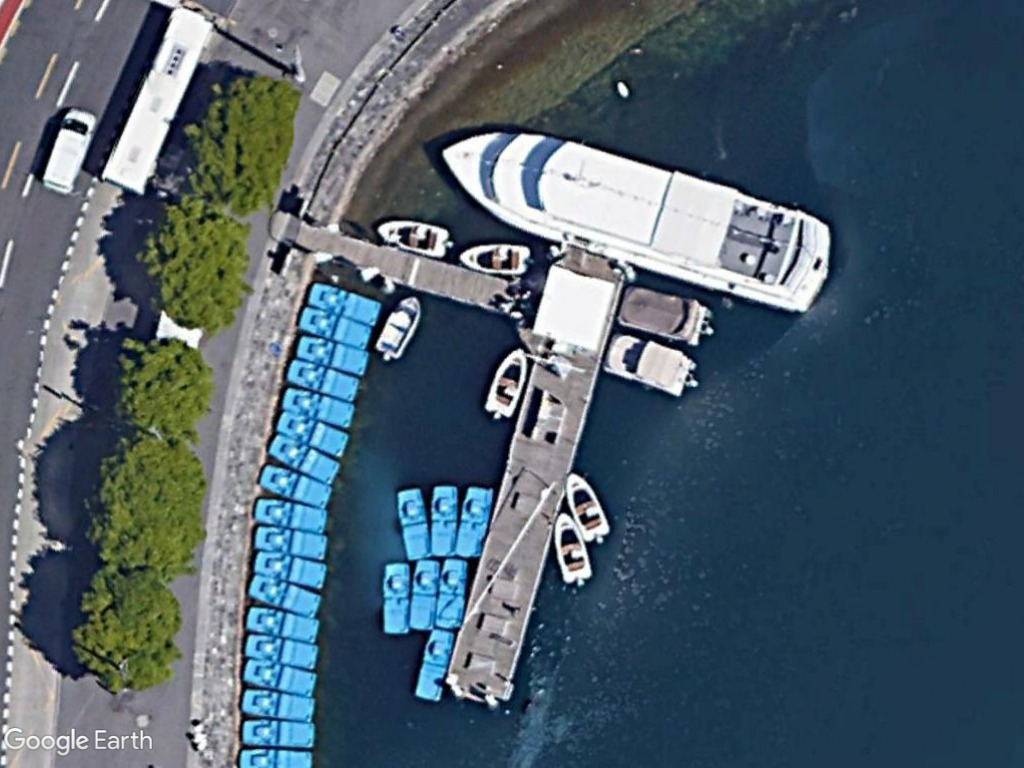boat: (436, 125, 841, 321), (454, 235, 536, 281), (480, 344, 529, 418), (562, 468, 609, 545), (371, 293, 423, 362), (551, 508, 593, 589), (374, 216, 451, 259)
bus: (98, 6, 212, 199)
van: (39, 101, 98, 199)
